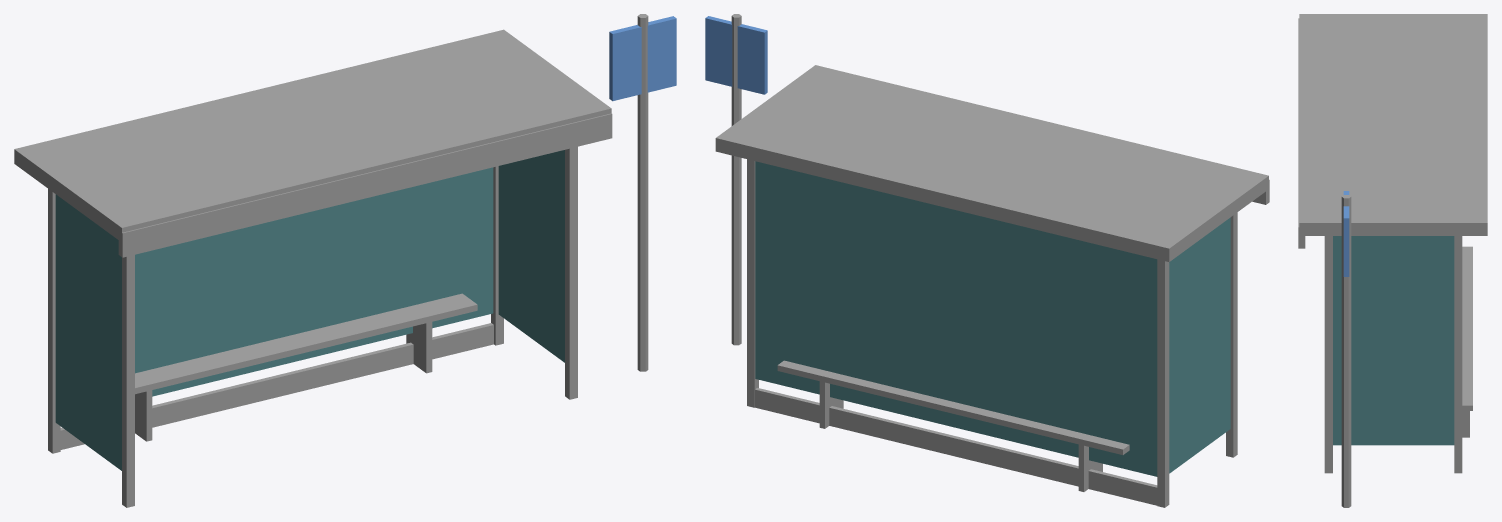
The model's file is hallplats.glb.
The picture shows the model from 3 angles, left to right: view 1: azimuth 30°, elevation 25°; view 2: azimuth 150°, elevation 25°; view 3: azimuth 270°, elevation 25°; orthographic projection. The views are drawn at different scales.
Visible parts, largest first — view 1: hallplats, glass, sign; view 2: glass, hallplats, sign; view 3: hallplats, glass, sign.
Part boxes in pixels (x1,y1,x2,y2): hallplats: [14, 14, 648, 507]; glass: [55, 150, 564, 470]; sign: [609, 16, 676, 101]; glass: [755, 161, 1230, 476]; hallplats: [715, 14, 1269, 507]; sign: [705, 16, 767, 94]; hallplats: [1298, 14, 1487, 507]; glass: [1333, 236, 1454, 445]; sign: [1343, 191, 1349, 276].
Bounding box in the file's own units: 4.97 × 2.9 × 1.61.
